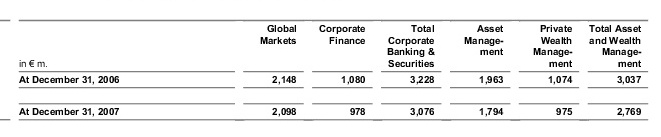table: (0, 0, 661, 137)
